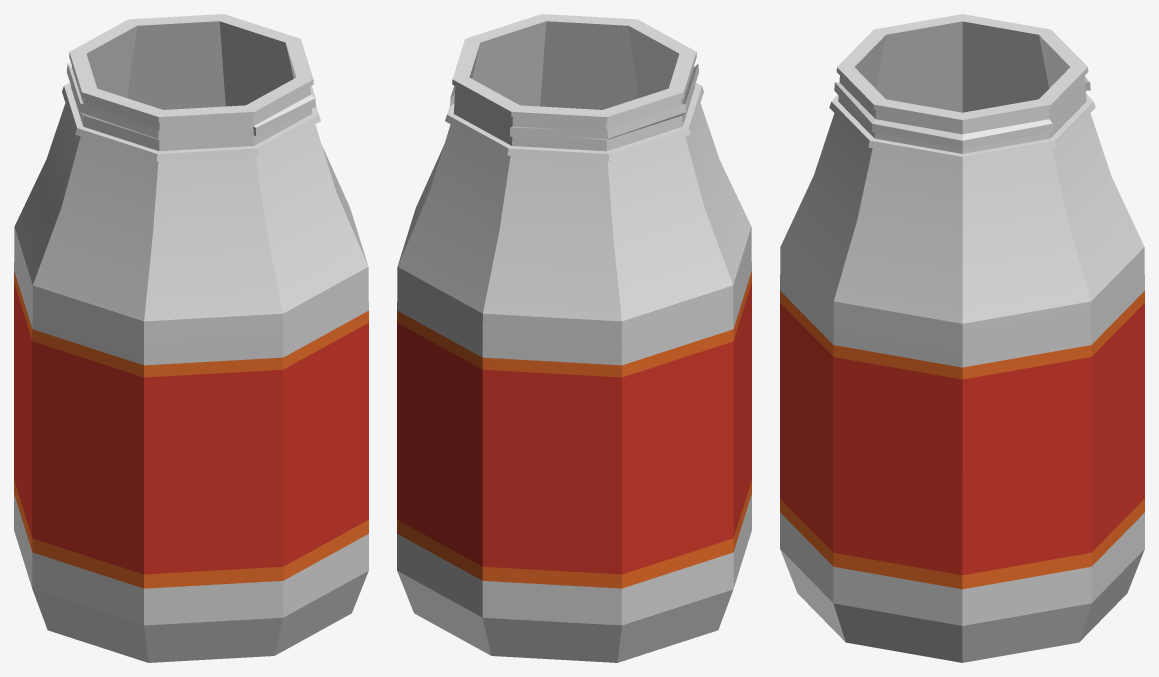
The model's file is Mayonesa.fbx.
3 views of the same model, side by side, from view 1: azimuth 30°, elevation 25°; view 2: azimuth 150°, elevation 25°; view 3: azimuth 270°, elevation 25° (orthographic).
Visible parts, largest first — view 1: Mayonesa; view 2: Mayonesa; view 3: Mayonesa.
Boxes of the visible parts, x1,y1,x2,y2 form: Mayonesa: (14, 14, 368, 662); Mayonesa: (397, 14, 751, 662); Mayonesa: (780, 14, 1144, 662).
Bounding box in the file's own units: 10.93 × 17.39 × 10.93.
